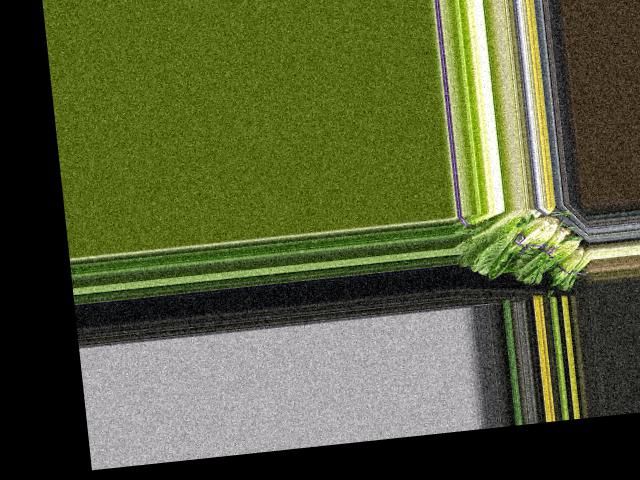lettuce: (453, 212, 535, 274)
